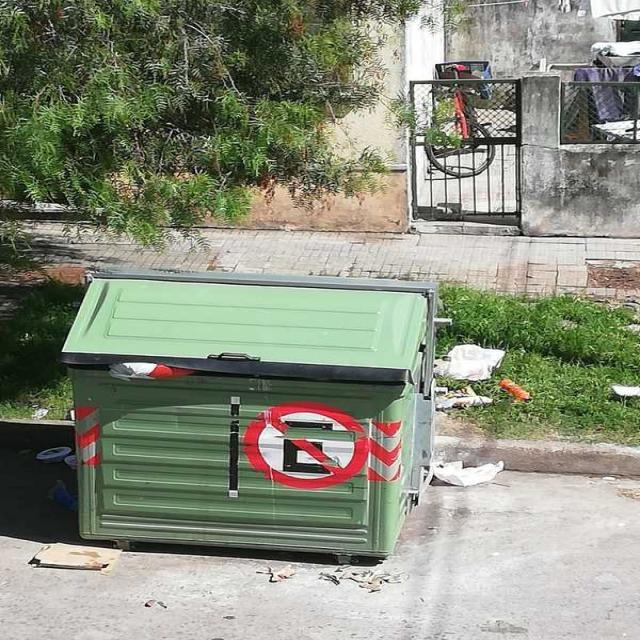garbage: (426, 319, 520, 502), (15, 538, 129, 588), (0, 252, 89, 306), (95, 352, 194, 385), (36, 434, 82, 477), (611, 370, 639, 420)
